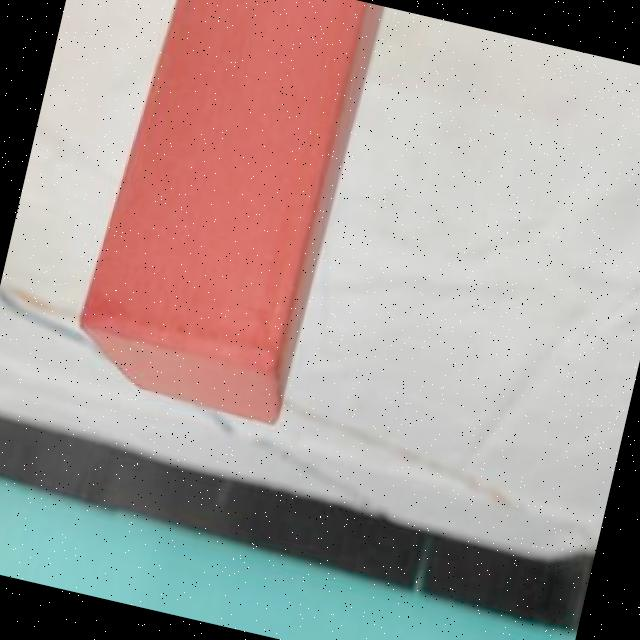redbox: (67, 0, 386, 431)
